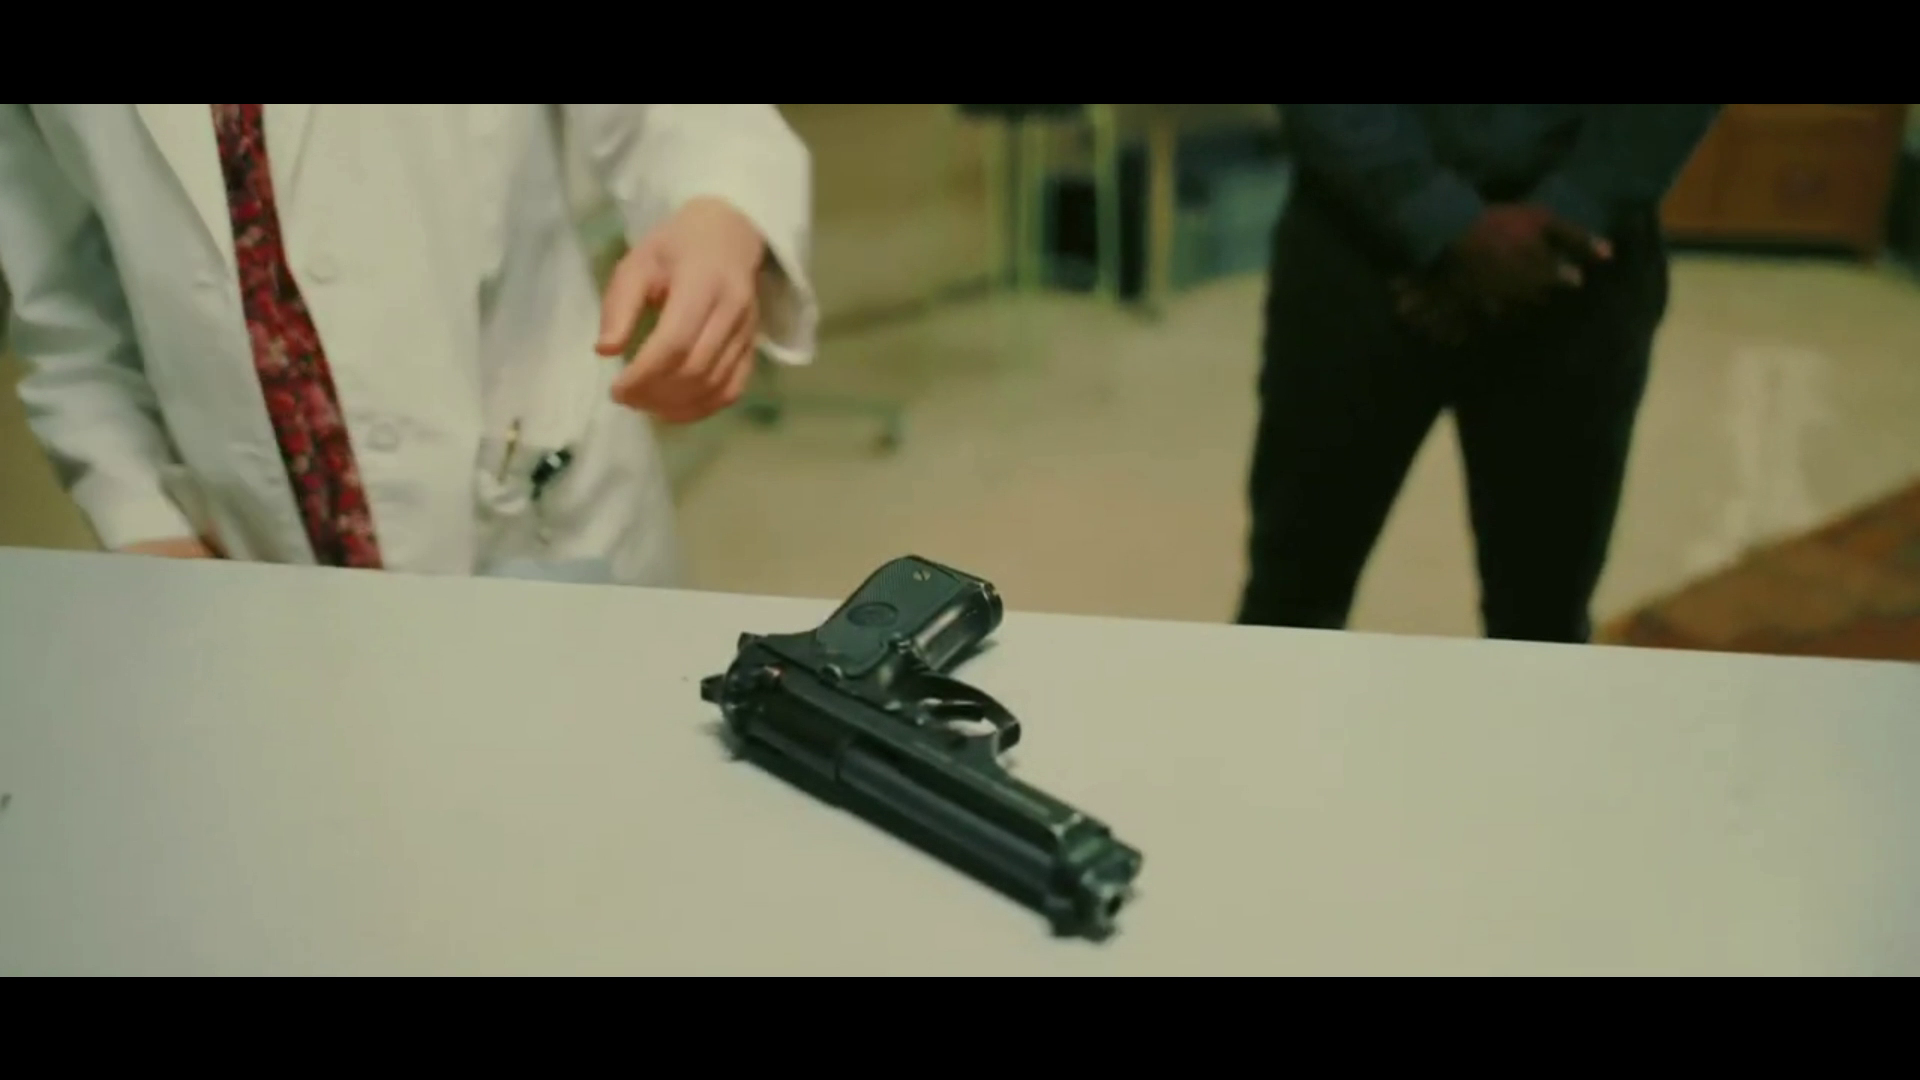SIG P226: (699, 553, 1145, 945)
